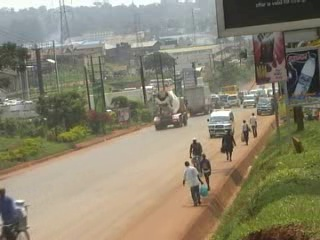Car: (240, 93, 256, 109)
